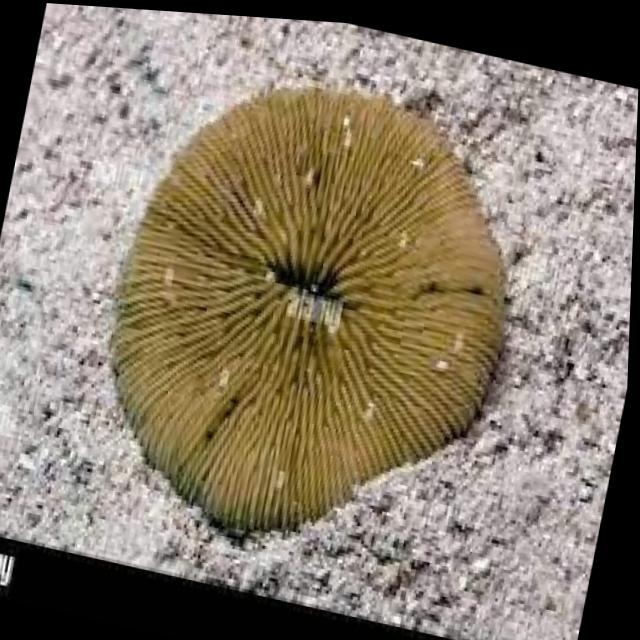Healthy Coral: (60, 30, 549, 582)
